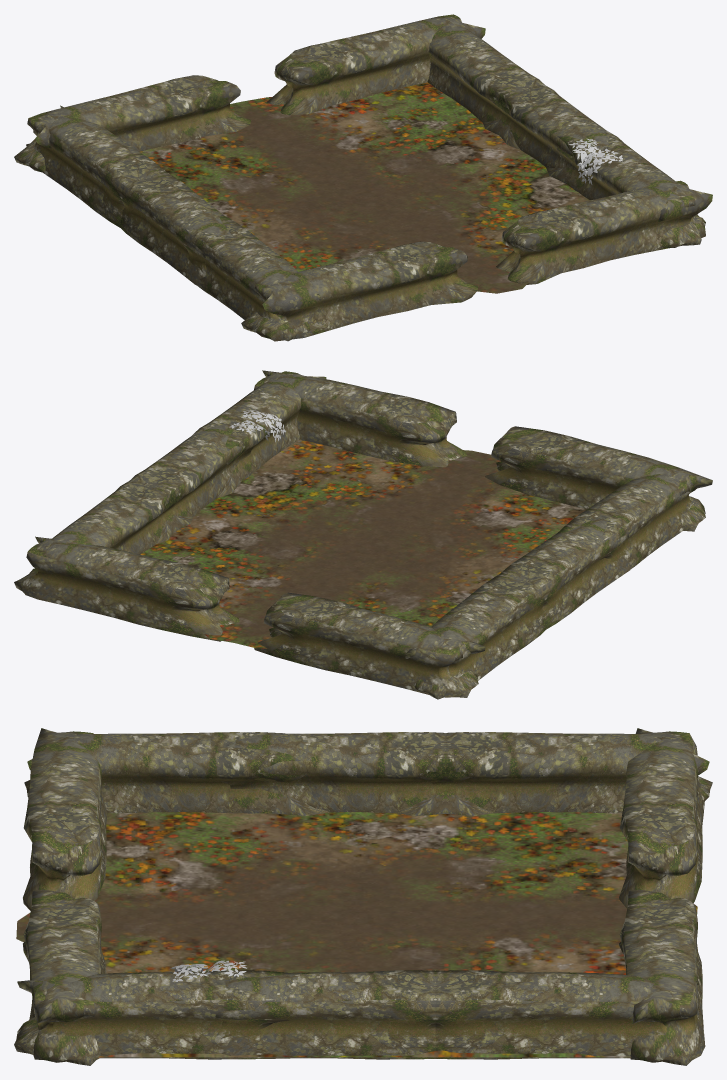
File: Exterior_2_Puertas_2_Grande.fbx
3 views of the same model, one above another, from view 1: azimuth 30°, elevation 25°; view 2: azimuth 150°, elevation 25°; view 3: azimuth 270°, elevation 25° (orthographic). The views are drawn at different scales.
Visible parts, largest first — view 1: polySurface104; view 2: polySurface104; view 3: polySurface104.
Part boxes in pixels (<box>): polySurface104: <box>14,14,712,341</box>; polySurface104: <box>14,370,712,699</box>; polySurface104: <box>14,728,712,1065</box>.
Bounding box in the file's own units: 503 × 57.98 × 511.
